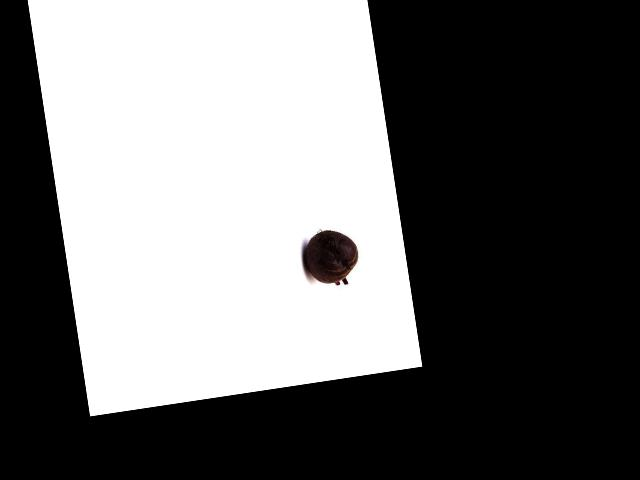beet: (300, 225, 362, 289)
